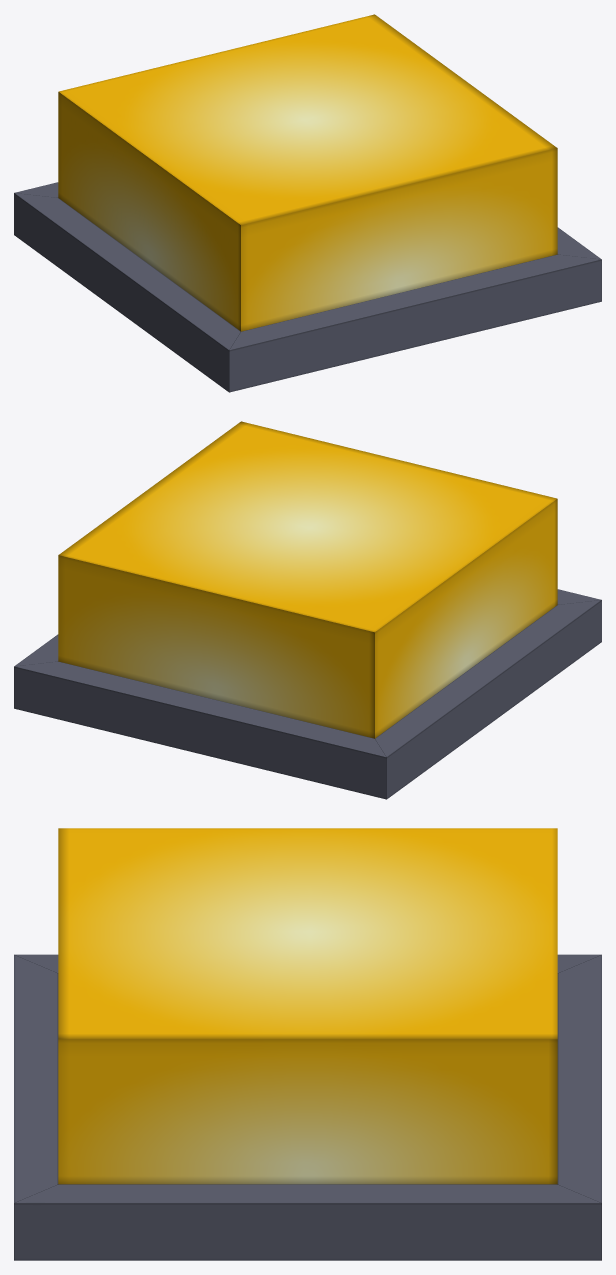
File: Button_Squared_Yellow.FBX
3 views of the same model, one above another, from view 1: azimuth 30°, elevation 25°; view 2: azimuth 150°, elevation 25°; view 3: azimuth 270°, elevation 25° (orthographic). The views are drawn at different scales.
Visible parts, largest first — view 1: Push_Me, Button_Squared_Yellow; view 2: Push_Me, Button_Squared_Yellow; view 3: Push_Me, Button_Squared_Yellow.
Part boxes in pixels (bbox=[...]): Push_Me: bbox=[58, 14, 557, 331]; Button_Squared_Yellow: bbox=[14, 182, 601, 392]; Push_Me: bbox=[58, 421, 557, 738]; Button_Squared_Yellow: bbox=[14, 589, 601, 799]; Push_Me: bbox=[58, 828, 557, 1184]; Button_Squared_Yellow: bbox=[14, 954, 601, 1260].
Bounding box in the file's own units: 0.0922 × 0.0351 × 0.0922.
